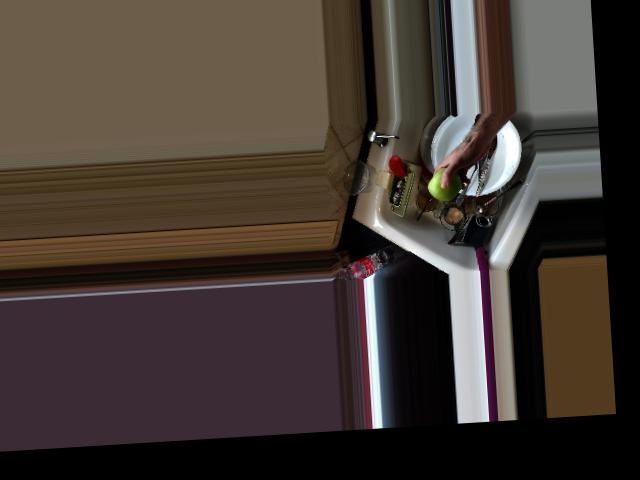apple: (426, 163, 465, 202)
